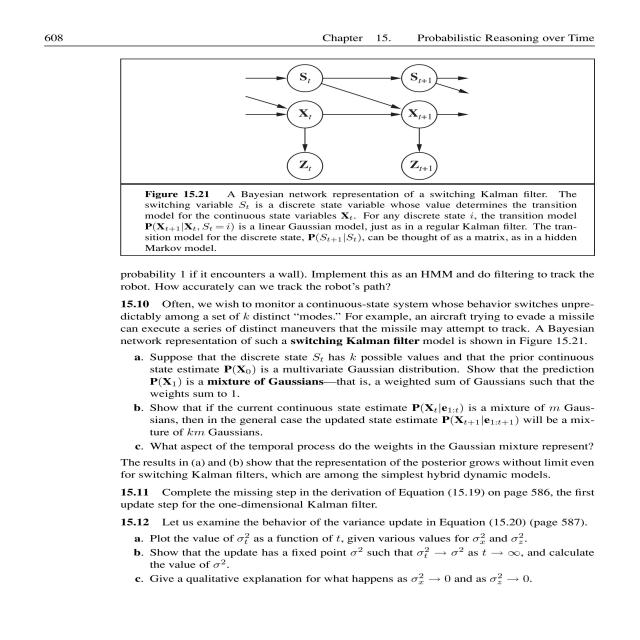diagram: (106, 54, 584, 264)
